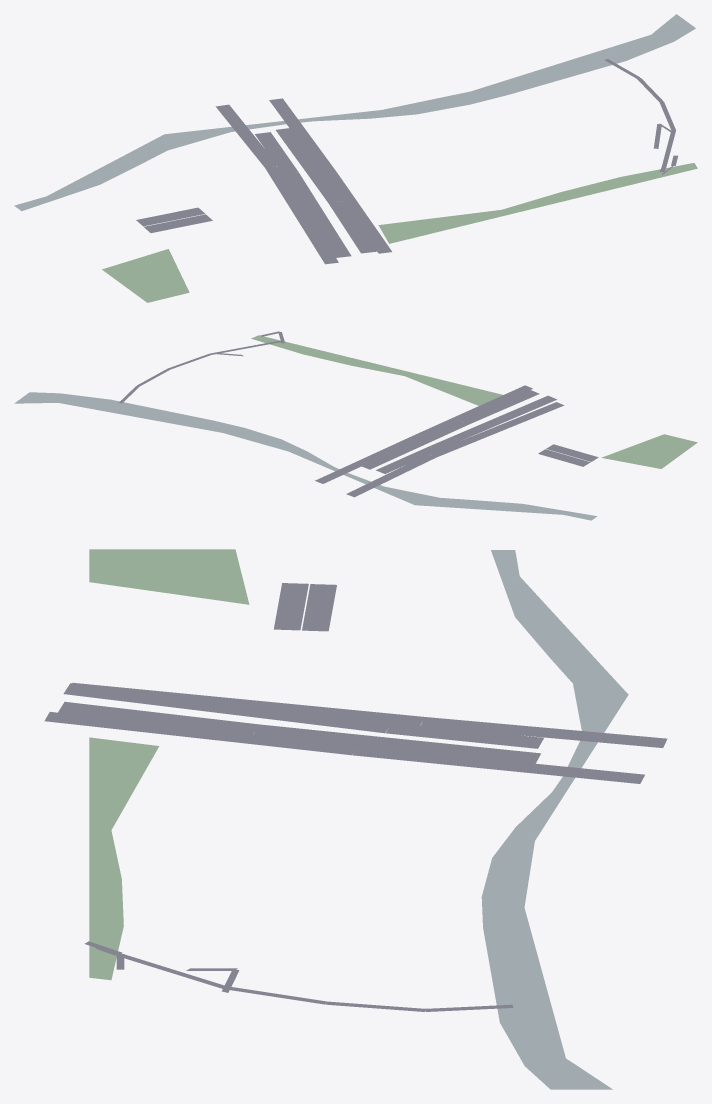
File: 95_101_mid.glb
The picture shows the model from 3 angles, top to bottom: view 1: azimuth 30°, elevation 25°; view 2: azimuth 150°, elevation 25°; view 3: azimuth 270°, elevation 25°; orthographic projection. The views are drawn at different scales.
Size of the model in its own units: 500 by 7.14 by 244.
